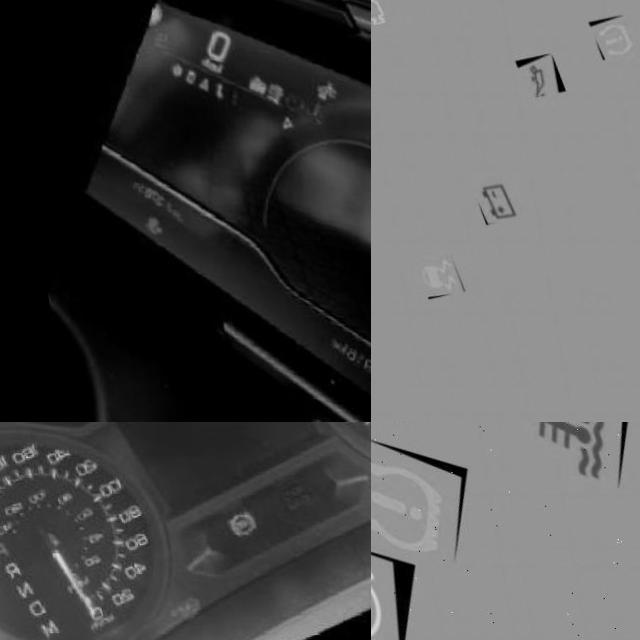Engine cooling system: (297, 102, 329, 133)
Low fuel level: (134, 223, 164, 249)
